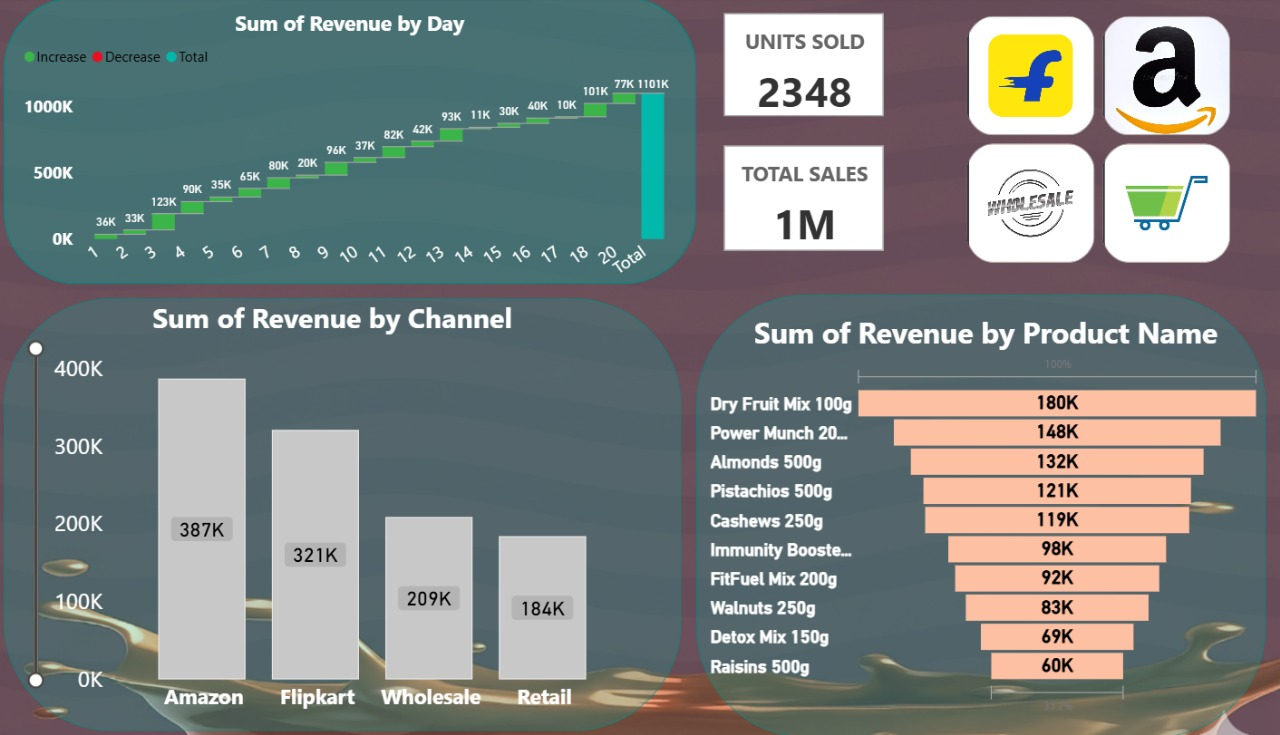

The page's visual inventory and layout, read from the dashboard file:
{"tool":"powerbi","page":{"name":"Dashboard","canvas":[1280,720],"ordinal":0},"visuals":[{"type":"shape","box":[21.2,293.1,659,421],"z":500},{"type":"cardVisual","fields":{"Data":["Sum(Cleaned_Data.Revenue)"]},"box":[716.6,138.9,165.2,112.7],"z":1000},{"type":"shape","box":[694.6,288.8,554,431.2],"z":1500},{"type":"clusteredColumnChart","fields":{"Category":["Cleaned_Data.Channel"],"Y":["Sum(Cleaned_Data.Revenue)"]},"box":[41.5,293.1,598.9,411.7],"z":2000},{"type":"funnel","fields":{"Category":["Cleaned_Data.Product Name"],"Y":["Sum(Cleaned_Data.Revenue)"]},"box":[703.1,306.6,545.5,394.7],"z":3000},{"type":"shape","box":[21.2,0,673.4,278.7],"z":3500},{"type":"cardVisual","fields":{"Data":["Sum(Cleaned_Data.Units Sold)"]},"box":[716.6,10.2,165.2,110.1],"z":4000},{"type":"waterfallChart","fields":{"Category":["Cleaned_Data.Date.Variation.Date Hierarchy.Day"],"Y":["Sum(Cleaned_Data.Revenue)"]},"box":[35.6,10.2,644.6,282.9],"z":5000},{"type":"advancedSlicerVisual","fields":{"Values":["Filters.images"]},"box":[952.9,13.6,266.8,250.7],"z":6000}]}

Visuals, with their boxes in screenshot pixels (x1, y1, x2, y2), scaled from the page's 1280x720 canvas onto the 1280x735 screenshot:
shape: region(21, 299, 680, 729)
cardVisual - Sum(Cleaned_Data.Revenue): region(717, 142, 882, 257)
shape: region(695, 295, 1249, 734)
clusteredColumnChart - Cleaned_Data.Channel x Sum(Cleaned_Data.Revenue): region(42, 299, 640, 719)
funnel - Cleaned_Data.Product Name x Sum(Cleaned_Data.Revenue): region(703, 313, 1249, 716)
shape: region(21, 0, 695, 285)
cardVisual - Sum(Cleaned_Data.Units Sold): region(717, 10, 882, 123)
waterfallChart - Cleaned_Data.Date.Variation.Date Hierarchy.Day x Sum(Cleaned_Data.Revenue): region(36, 10, 680, 299)
advancedSlicerVisual - Filters.images: region(953, 14, 1220, 270)
